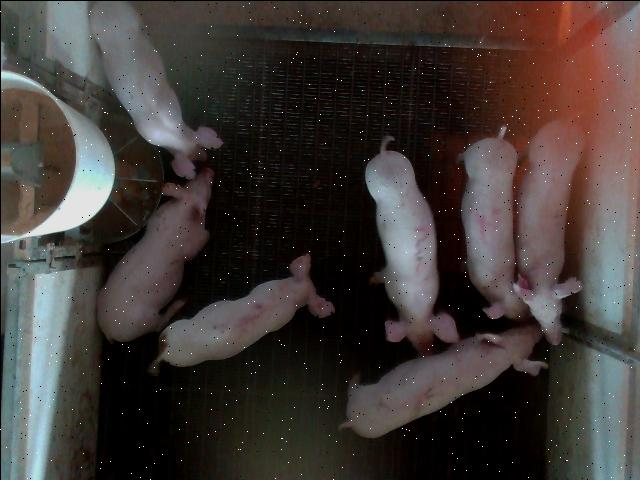pig-3: (364, 136, 458, 355)
pig-4: (459, 126, 528, 319)
pig-5: (148, 253, 333, 374)
